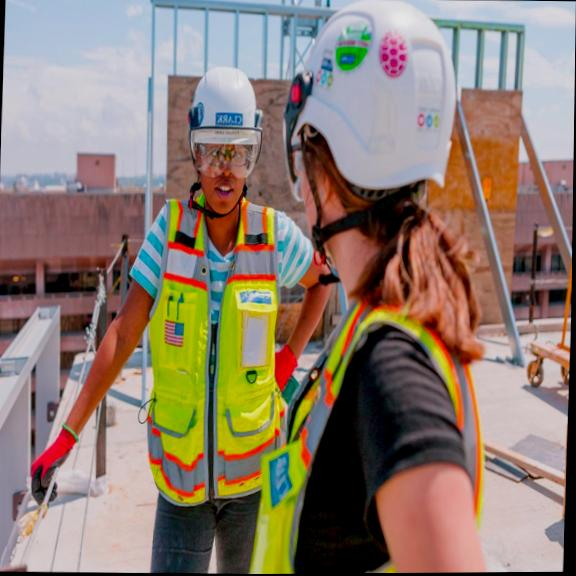safety_vest: (246, 285, 493, 574), (141, 187, 294, 510)
